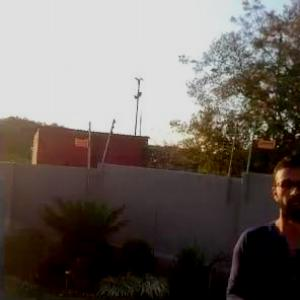follow: (220, 147, 299, 299)
